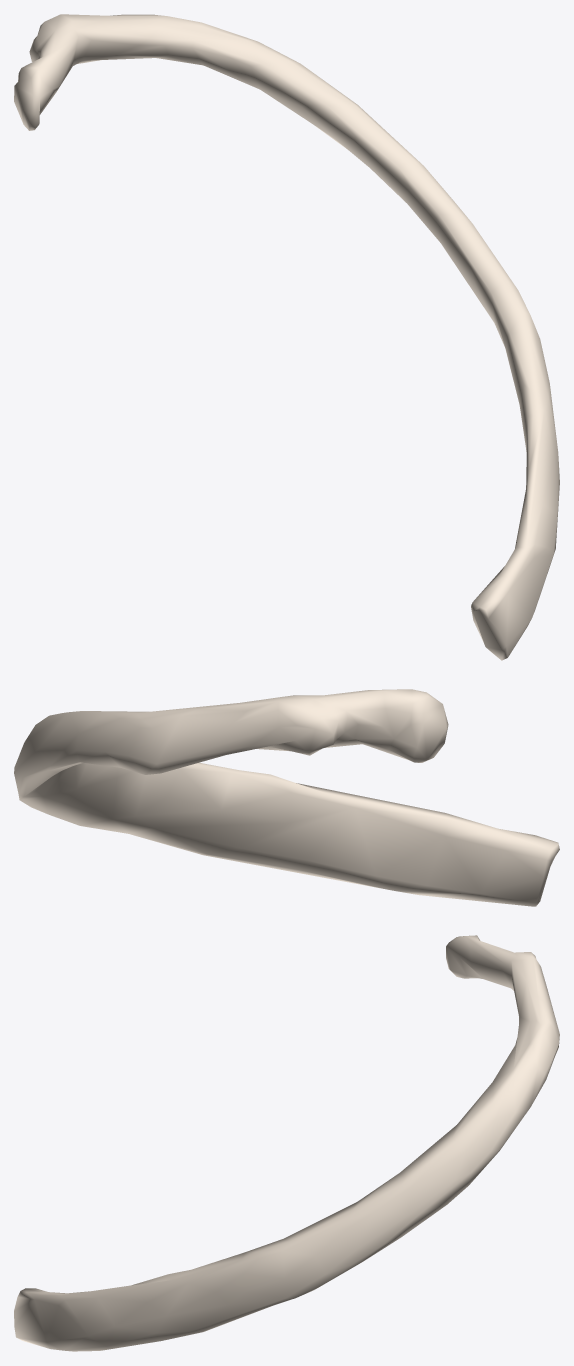
File: left_rib_4.glb
The picture shows the model from 3 angles, top to bottom: view 1: azimuth 30°, elevation 25°; view 2: azimuth 150°, elevation 25°; view 3: azimuth 270°, elevation 25°; orthographic projection. The views are drawn at different scales.
Visible parts, largest first — view 1: Rib (4th).r; view 2: Rib (4th).r; view 3: Rib (4th).r.
Boxes of the visible parts, <box> form: Rib (4th).r: <box>14,14,559,660</box>; Rib (4th).r: <box>14,689,559,906</box>; Rib (4th).r: <box>14,935,559,1351</box>.
Size of the model in its own units: 0.1109 by 0.1162 by 0.1688.
